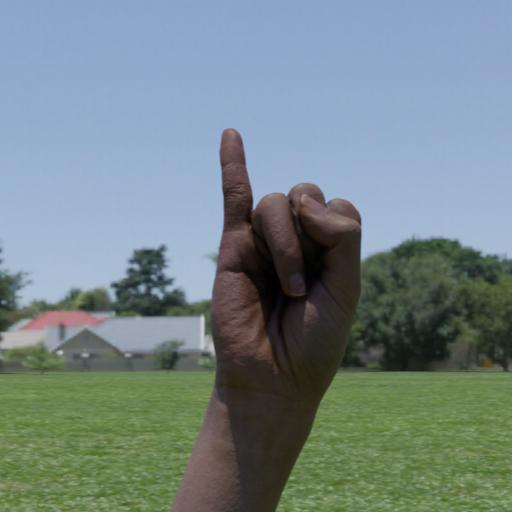I: (170, 106, 385, 512)
